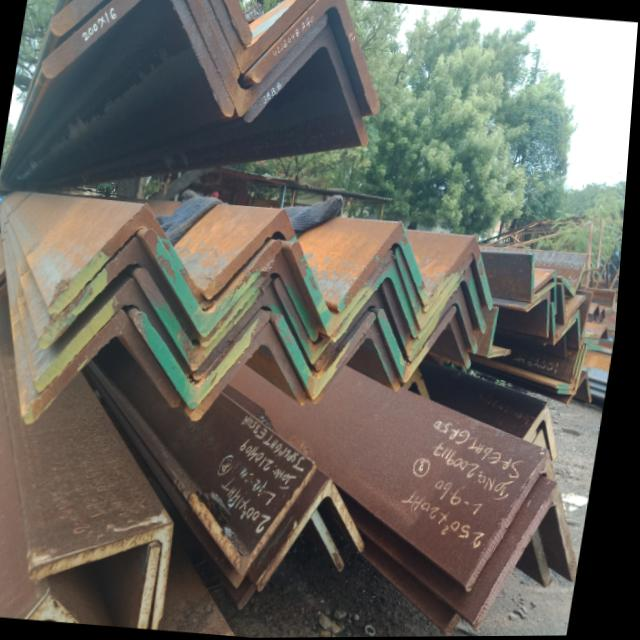metal-angles: (52, 203, 208, 319), (28, 310, 188, 423), (40, 278, 196, 389), (44, 238, 201, 348), (184, 0, 328, 118), (38, 522, 182, 630), (245, 25, 372, 146), (483, 483, 586, 632), (147, 228, 286, 337), (252, 0, 382, 114), (139, 309, 276, 409), (139, 268, 266, 370), (266, 477, 374, 593), (475, 451, 562, 593), (196, 322, 314, 422), (207, 250, 323, 346), (199, 283, 310, 381), (293, 242, 397, 337), (279, 313, 379, 400), (343, 221, 434, 312), (209, 209, 300, 298), (170, 0, 237, 116), (209, 0, 315, 73), (43, 0, 139, 79), (336, 258, 424, 342), (319, 323, 407, 403), (321, 289, 405, 371), (399, 246, 477, 329), (383, 307, 461, 383), (386, 279, 459, 358), (428, 236, 498, 312), (414, 286, 483, 362), (279, 277, 335, 365), (456, 265, 491, 334), (530, 402, 564, 462), (561, 345, 590, 390), (576, 339, 604, 383), (535, 253, 559, 303), (565, 254, 592, 297), (493, 308, 516, 358), (530, 291, 554, 338), (563, 355, 591, 395), (556, 303, 581, 346), (565, 283, 590, 325), (539, 270, 561, 315), (562, 310, 586, 350), (586, 292, 605, 339), (409, 368, 436, 399), (583, 372, 598, 403), (605, 327, 613, 340), (596, 305, 605, 316)
